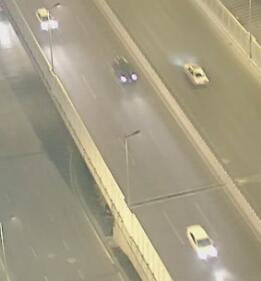car: (184, 223, 217, 261), (110, 54, 138, 84), (33, 5, 57, 32), (182, 60, 208, 84)
